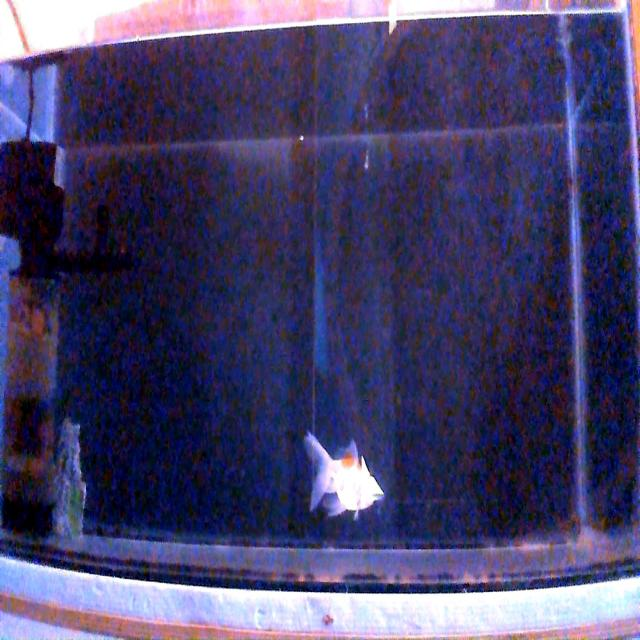fish: (304, 430, 386, 520)
